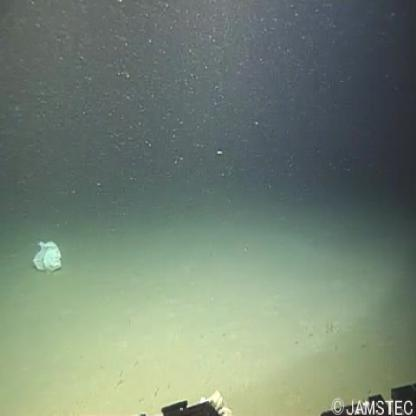Rác: (28, 228, 68, 284)
